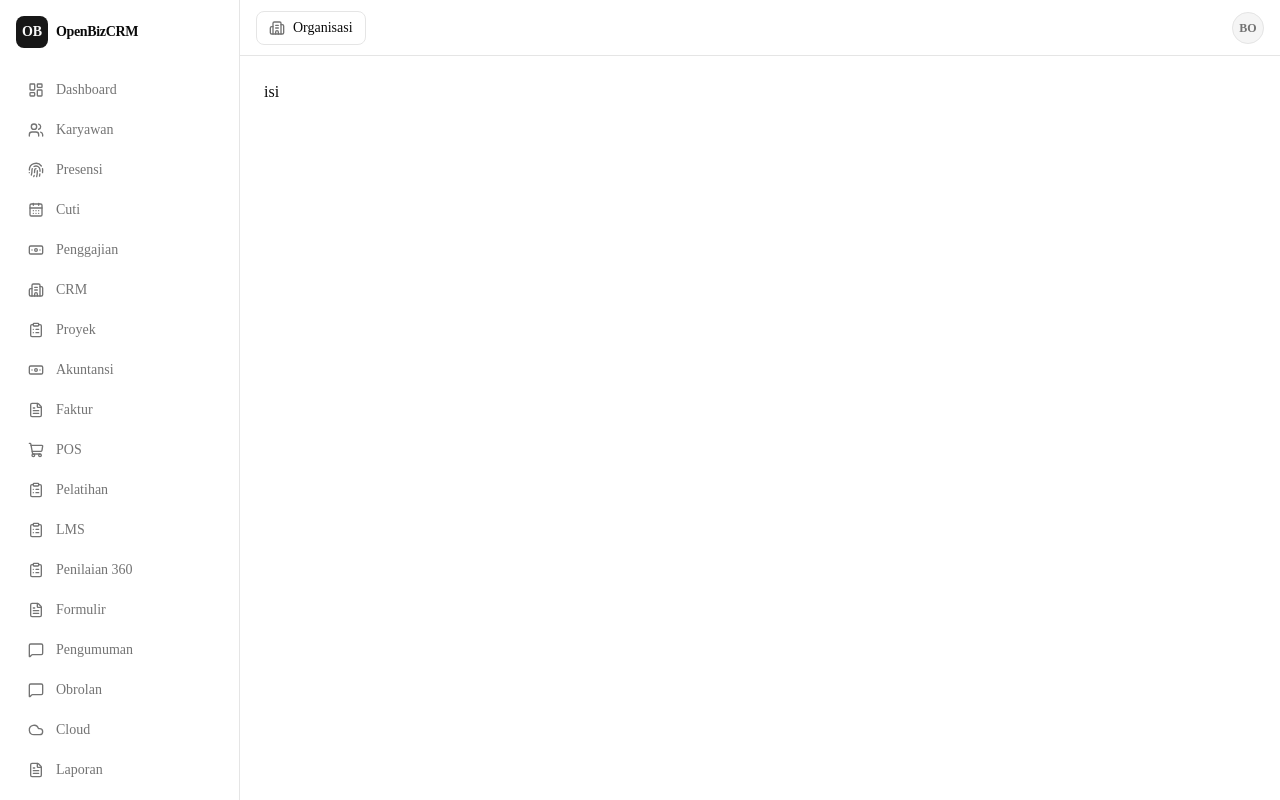
Test: app shell › renders all nav items, org display, and user menu with Keluar
Check: the link "Dashboard" is shown, box [28,82,117,98]
Check: the link "Karyawan" is shown, box [28,122,114,138]
Press the mouse on the button with aria-label "Menu pengguna: Budi Owner" at (1248,28), box [1232,12,1264,44]
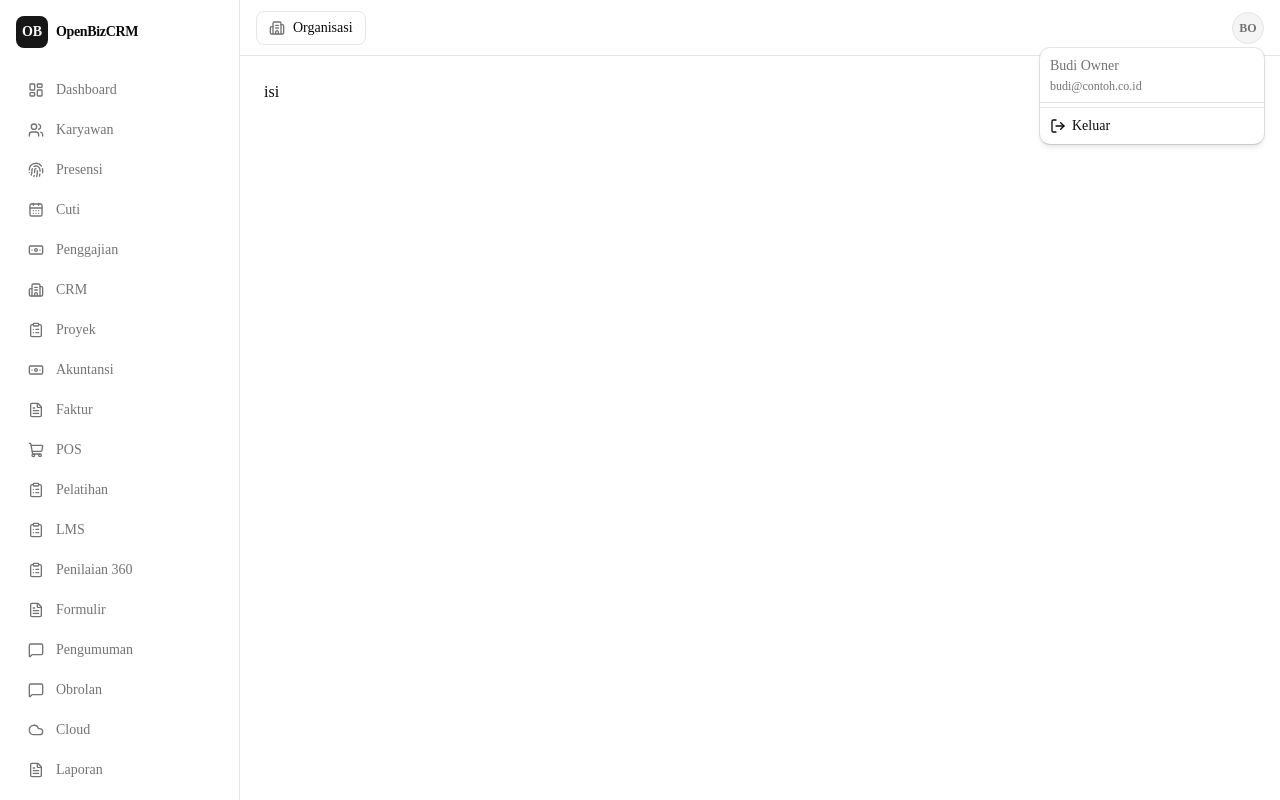
Check: the menu item "Keluar" is shown, box [1050,118,1110,134]
